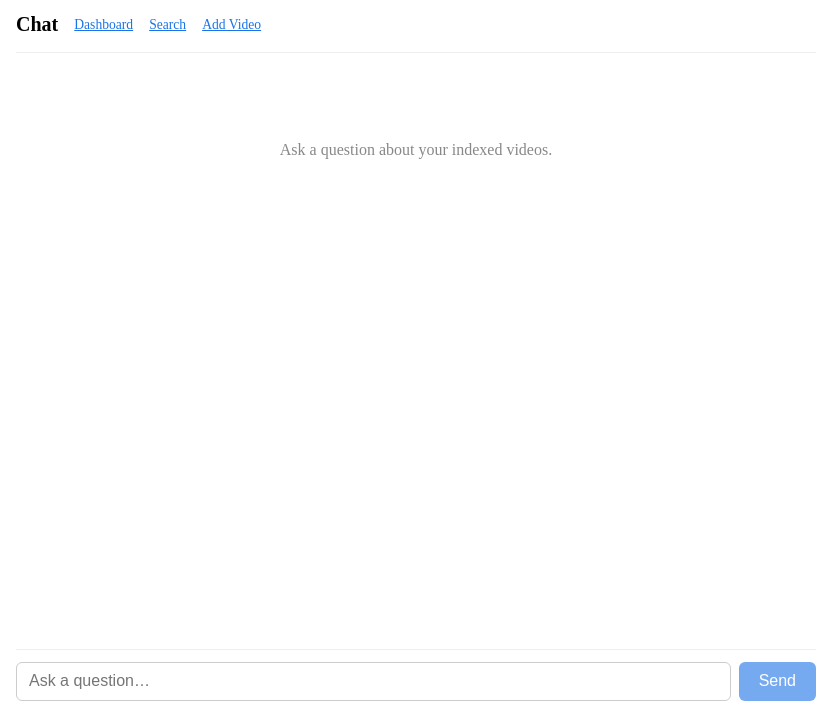
it: ChatPage › shows the question in a user bubble immediately on submit
In the field labelled "Ask a question…": (373, 681) [16,662,731,701], type "What is machine learning?"
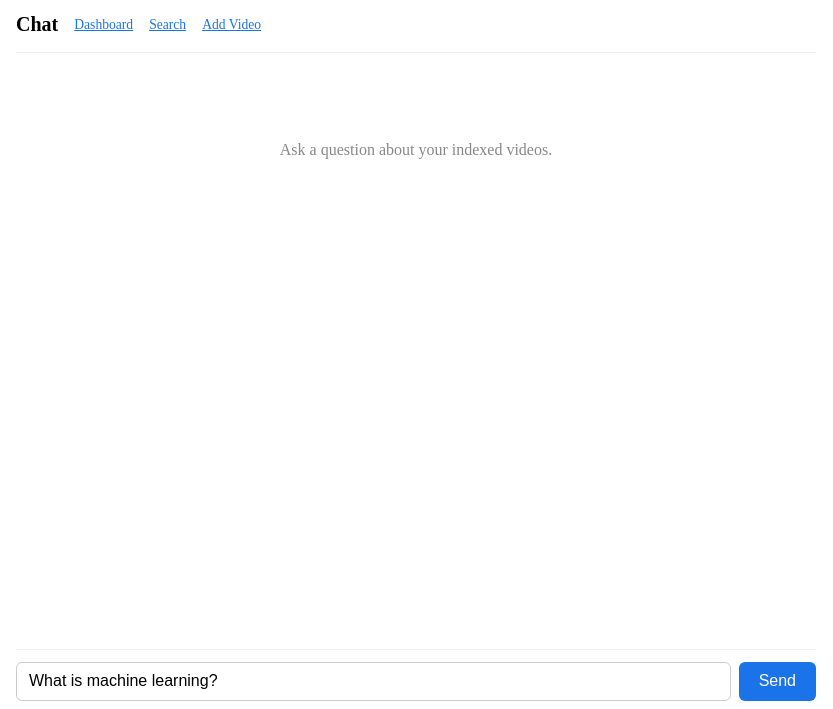
Click the button "Send": (777, 681) [739,662,816,701]
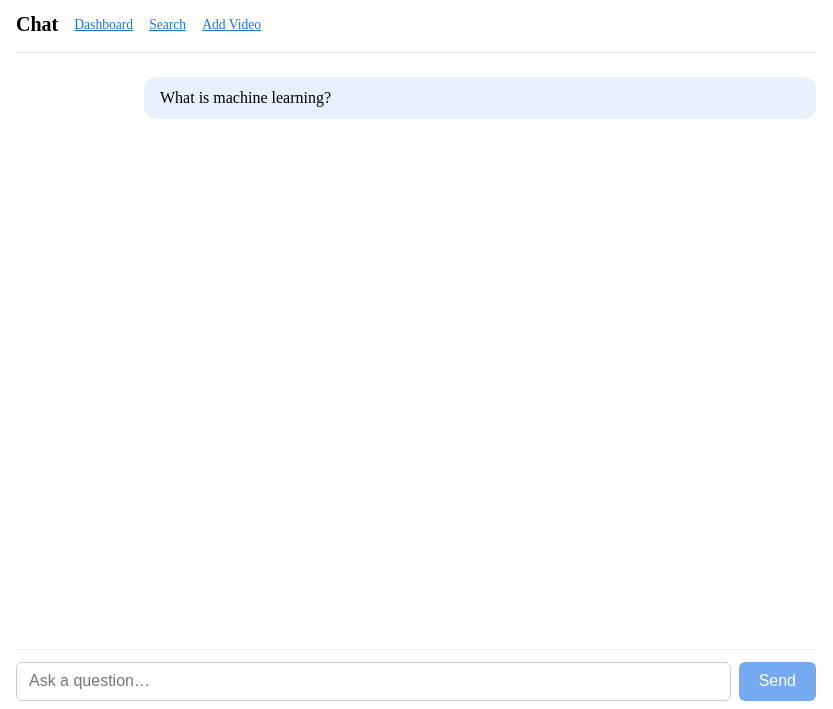
Expected: the text "What is machine learning?" is shown, [160,89,331,106]
